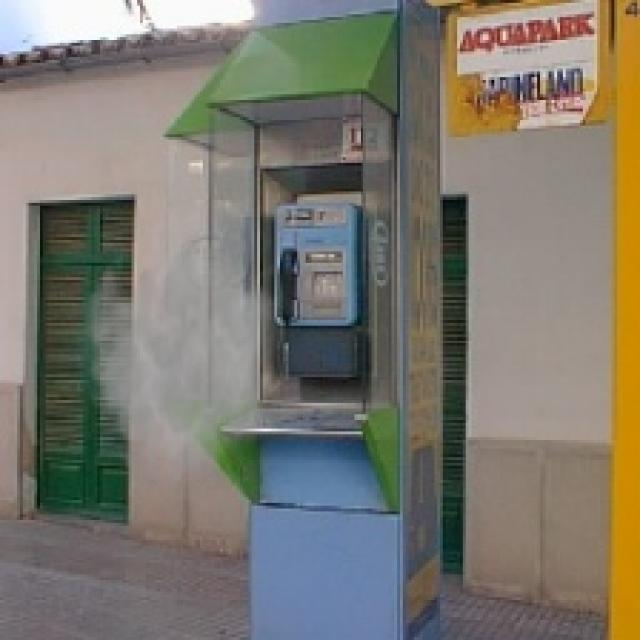smoke: (68, 229, 283, 497)
